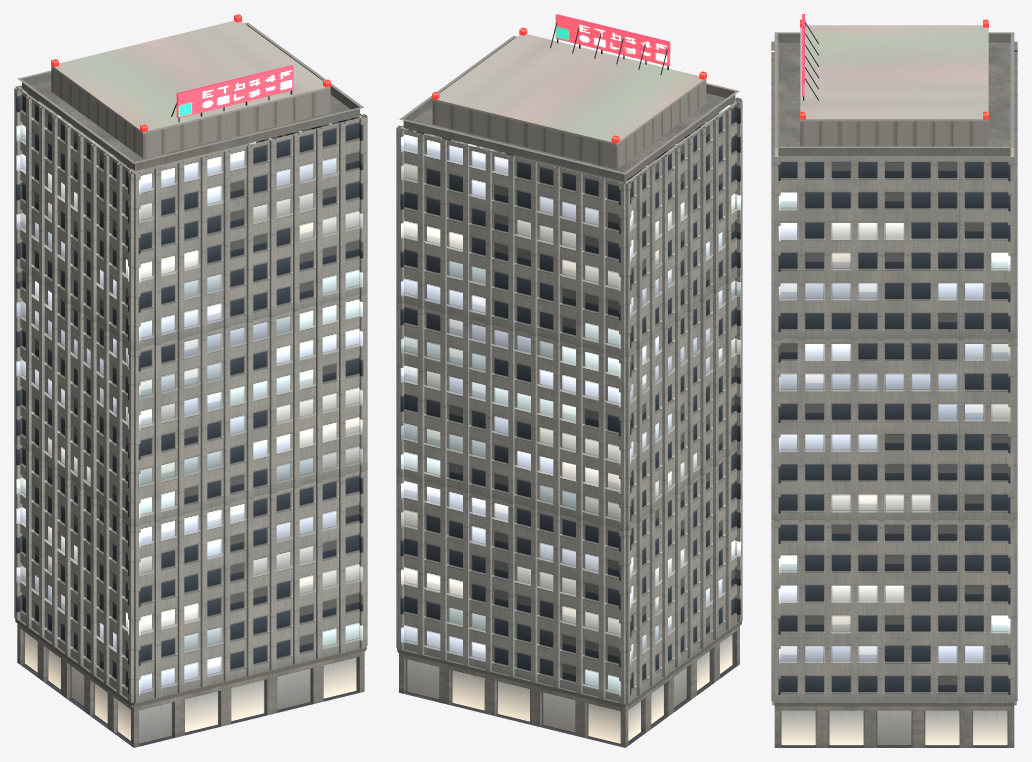
File: tokyo_glassslab_d.glb
The picture shows the model from 3 angles, left to right: view 1: azimuth 30°, elevation 25°; view 2: azimuth 150°, elevation 25°; view 3: azimuth 270°, elevation 25°; orthographic projection. The views are drawn at different scales.
Visible parts, largest first — view 1: tokyo_glassslab_d; view 2: tokyo_glassslab_d; view 3: tokyo_glassslab_d.
Part boxes in pixels (x1,y1,x2,y2): tokyo_glassslab_d: [14, 14, 367, 747]; tokyo_glassslab_d: [396, 14, 742, 747]; tokyo_glassslab_d: [771, 14, 1017, 747].
Bounding box in the file's own units: 32.8 × 83.5 × 28.8.
Materials: 1 (1 with a texture image).
